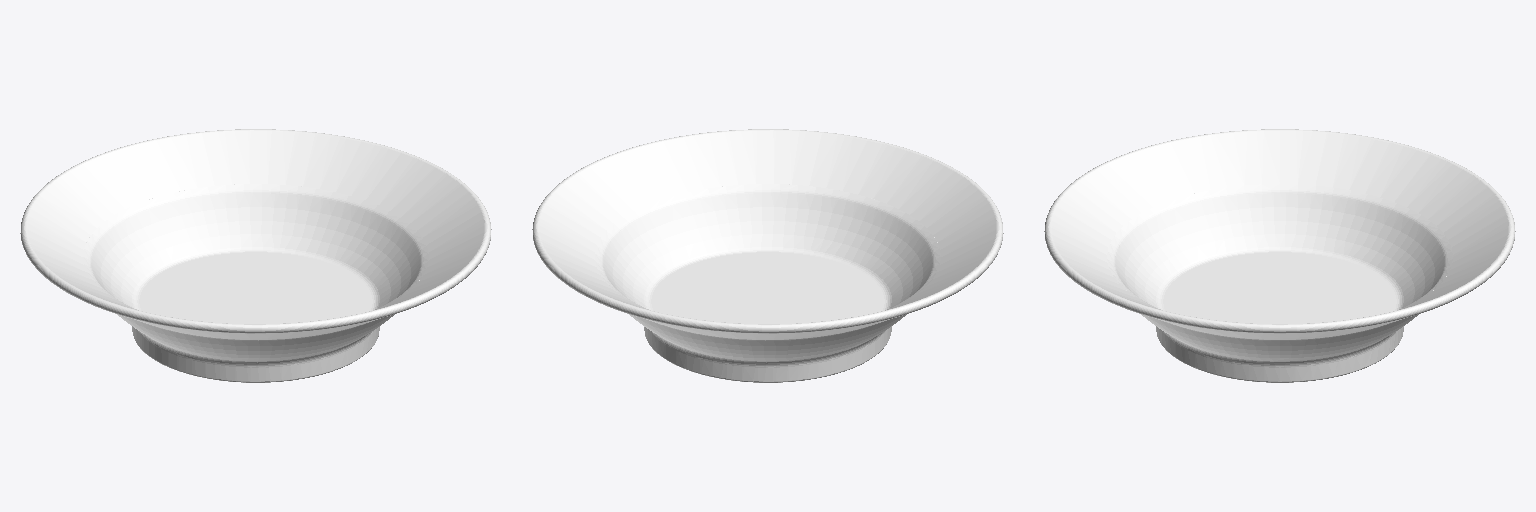
URDF robot description (plate.urdf):
<?xml version="0.0" ?>
<!--PyBullet does not support concave objects, so we make a special plate model,
    where the collision is only detected for the upper half of the plate.-->
<robot name="plate.urdf">
    <link name="plate_lower_half_link">
        <inertial>
            <origin rpy="0 0 0" xyz="0 0 0"/>
            <mass value="0"/>
            <inertia ixx="0" ixy="0" ixz="0" iyy="0" iyz="0" izz="0"/>
        </inertial>
        <visual>
            <origin rpy="0 0 0" xyz="0 0 0"/>
            <geometry>
                <mesh filename="plate_lower_half.stl"/>
            </geometry>
            <material name="white">
                <color rgba="1 1 1 1"/>
            </material>
        </visual>
    </link>

    <link name="plate_upper_half_link">
        <contact>
            <lateral_friction value="0.1"/>
            <rolling_friction value="0.0001"/>
            <inertia_scaling value="3.0"/>
        </contact>
        <inertial>
            <origin rpy="0 0 0" xyz="0 0 0"/>
            <mass value="10"/>
            <inertia ixx="1" ixy="0" ixz="0" iyy="1" iyz="0" izz="1"/>
        </inertial>
        <visual>
            <origin rpy="0 0 0" xyz="0 0 0"/>
            <geometry>
                <mesh filename="plate_upper_half.stl"/>
            </geometry>
            <material name="white">
                <color rgba="1 1 1 1"/>
            </material>
        </visual>
        <collision>
            <origin rpy="0 0 0" xyz="0 0 0"/>
            <geometry>
                <mesh filename="plate_upper_half.stl"/>
            </geometry>
        </collision>
    </link>
    <joint name="plate_upper_half_joint" type="fixed">
        <axis xyz="0 0 1"/>
        <origin xyz="0 0 0"/>
        <parent link="plate_lower_half_link"/>
        <child link="plate_upper_half_link"/>
    </joint>

    <link name="plate_edge_link">
        <inertial>
            <mass value="0.0"/>
            <origin rpy="0 0 0" xyz="0.0 0.0 0.0"/>
            <inertia ixx="0" ixy="0" ixz="0" iyy="0" iyz="0" izz="0"/>
        </inertial>
        <visual>
            <origin rpy="0 0 0" xyz="0 0 0"/>
            <geometry>
                <sphere radius="0.001"/>
            </geometry>
            <material name="white">
                <color rgba="1.0 1.0 1.0 1.0"/>
            </material>
        </visual>
    </link>
    <joint name="plate_edge_joint" type="fixed">
        <axis xyz="0 0 1"/>
        <origin xyz="0 -0.098 0.04687"/>
        <parent link="plate_lower_half_link"/>
        <child link="plate_edge_link"/>
    </joint>

</robot>

--- Render facts (derived) ---
The picture shows the robot from 3 angles, left to right: view 1: azimuth 30°, elevation 25°; view 2: azimuth 150°, elevation 25°; view 3: azimuth 270°, elevation 25°; orthographic projection.
Model plate.urdf with 3 links and 2 joints (2 fixed), rooted at plate_lower_half_link, posed all joints at 0.
Links seen in each view (by area): view 1: plate_lower_half_link, plate_upper_half_link; view 2: plate_lower_half_link, plate_upper_half_link; view 3: plate_lower_half_link, plate_upper_half_link.
Boxes of the visible links, box(x1,y1,x2,y2) form: plate_lower_half_link: box(83, 184, 428, 382); plate_upper_half_link: box(20, 129, 491, 337); plate_lower_half_link: box(595, 184, 940, 382); plate_upper_half_link: box(532, 129, 1003, 337); plate_lower_half_link: box(1107, 184, 1452, 382); plate_upper_half_link: box(1044, 129, 1515, 337).
Bounding box of the posed robot: 0.2 × 0.2 × 0.0489 m (x, y, z).
Meshes: 2 distinct files referenced, 2 mesh visuals loaded (2 binary STL).